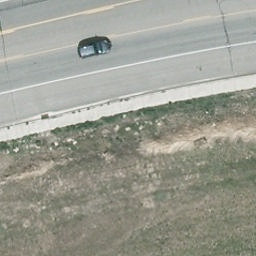car: (77, 39, 113, 59)
